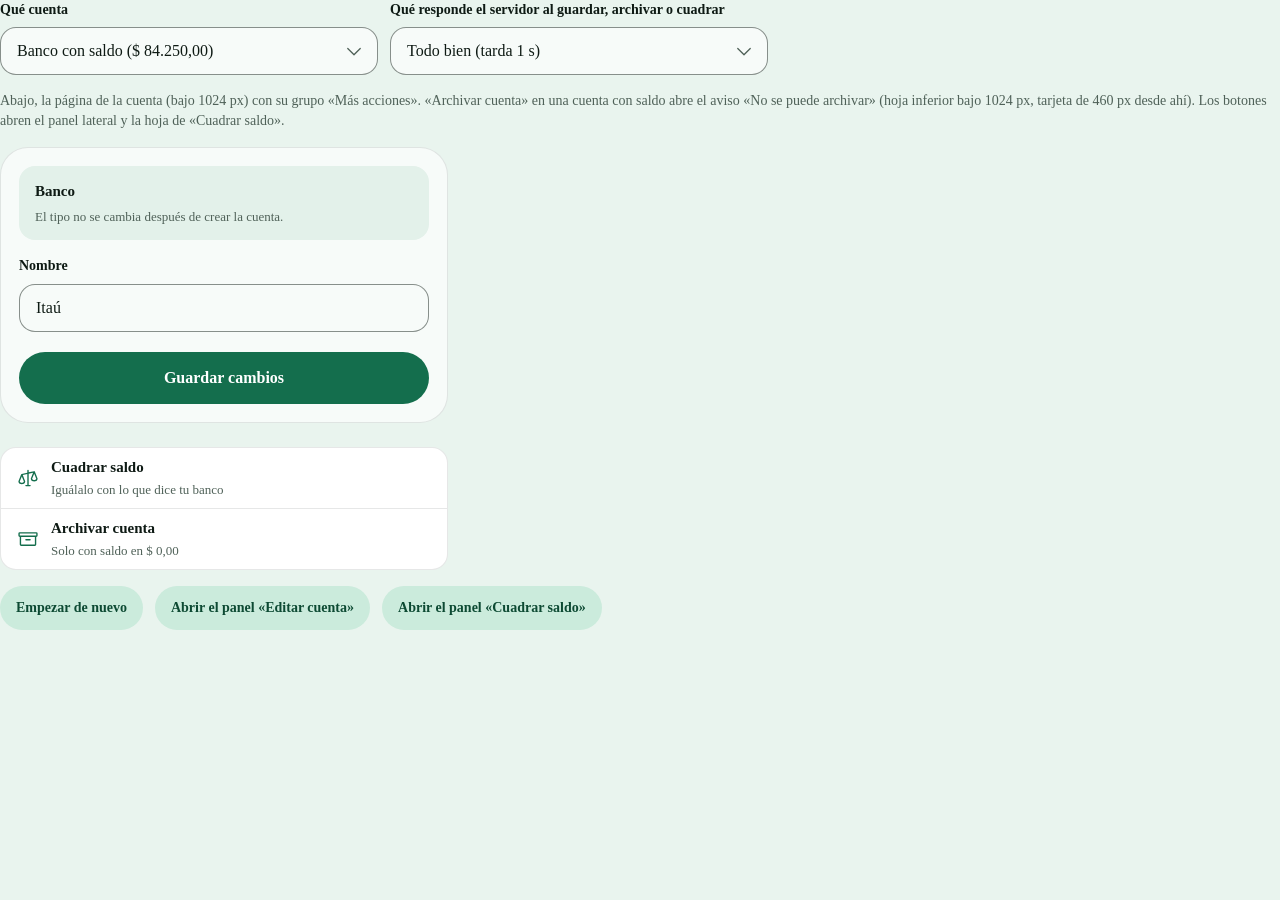
Test: AccountEditDemo › opens the alert of archiving for an account with a balance
The image size is (1280, 900).
Click the button "Archivar cuenta Solo con saldo en $ 0,00" at point(103, 528), box [1,508,447,568]
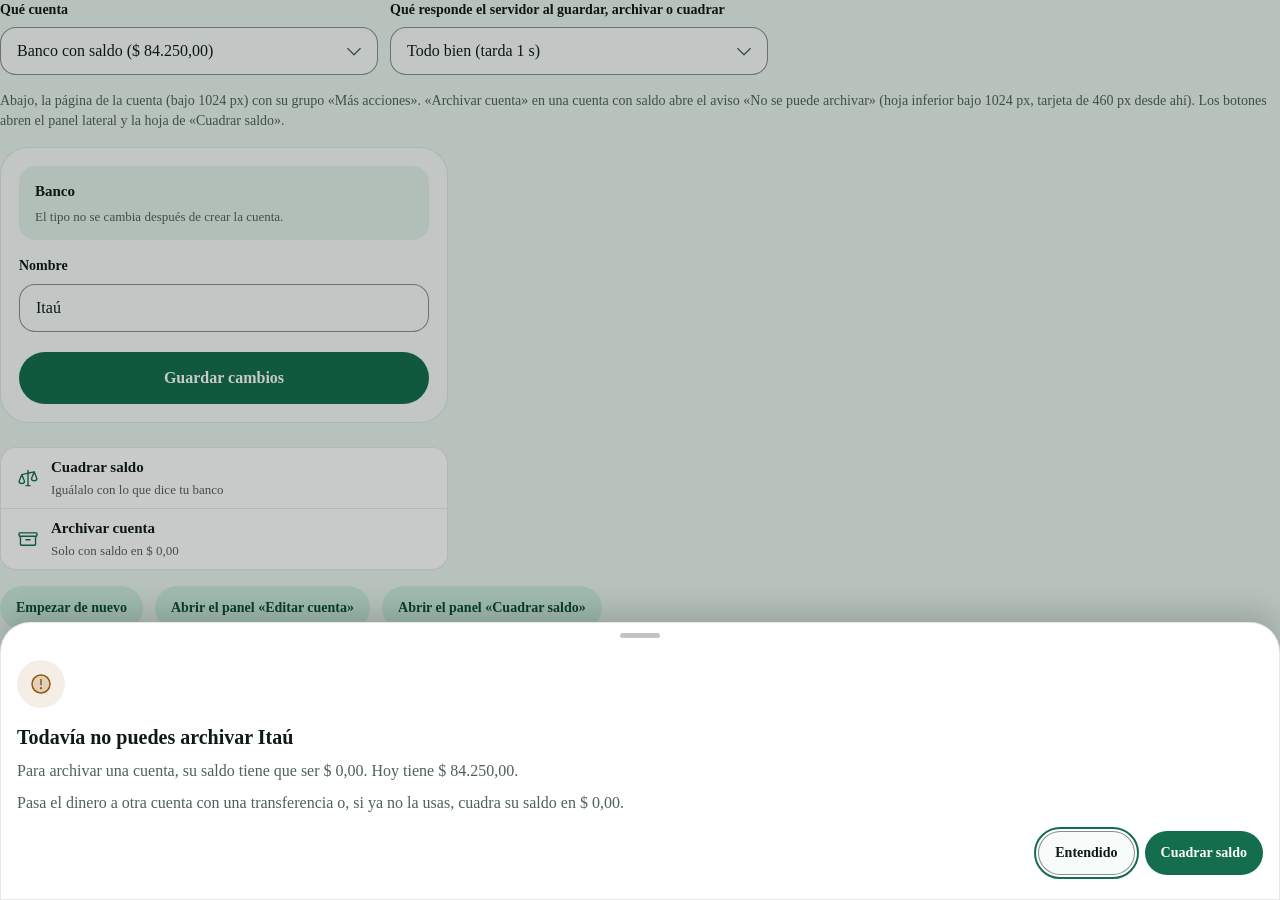
Expected: the heading "Todavía no puedes archivar Itaú" is shown, [17,726,293,748]
